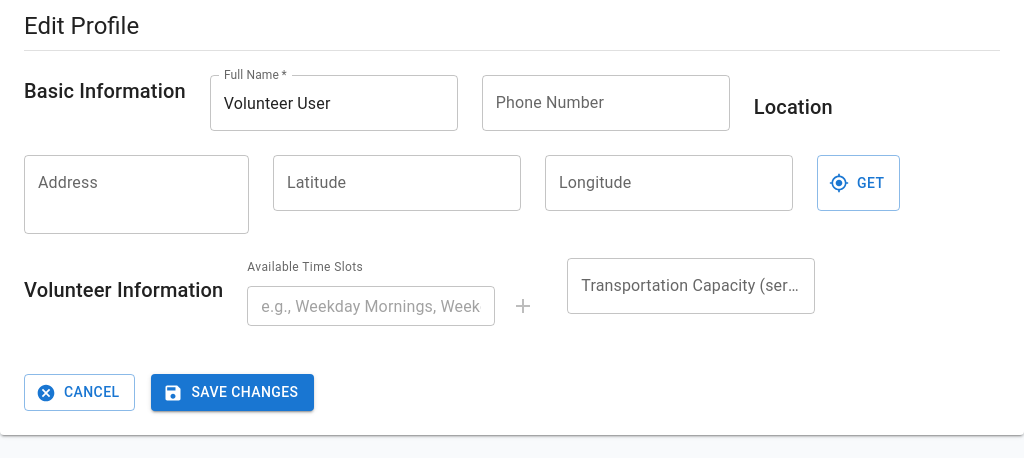
it: ProfileForm › should validate transportation capacity for volunteers
The width and height of the screenshot is (1024, 458).
Type "0" into the number field labelled "Transportation Capacity (servings)" at (691, 286), box [567,258,815,314]
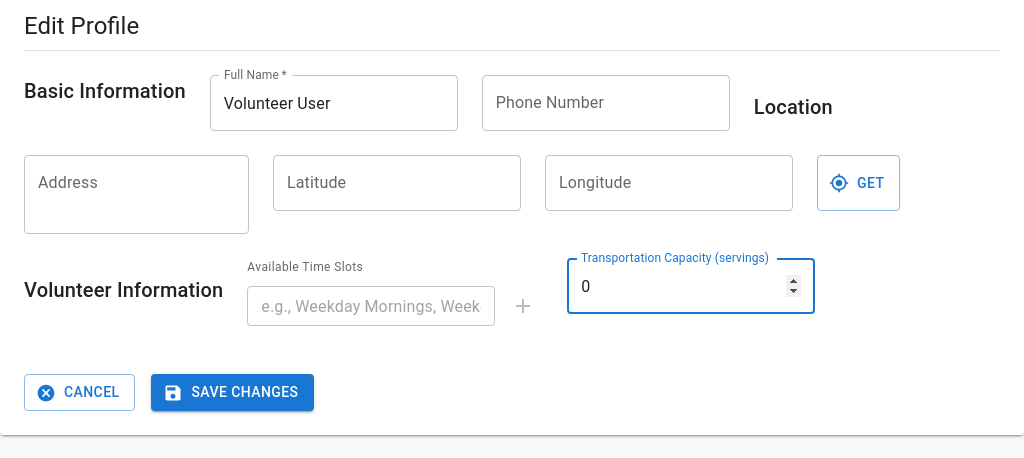
Click the button "Save Changes" at (233, 393), box [152,374,314,411]
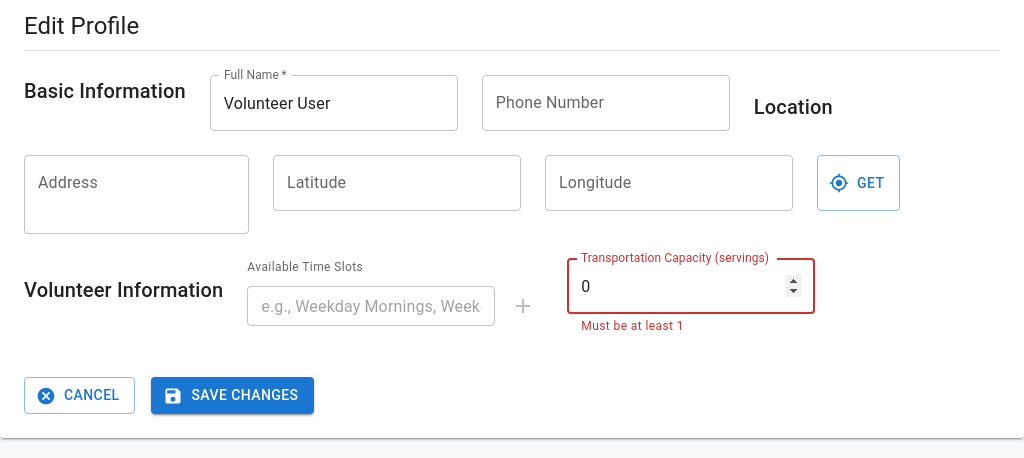
Check: the text "Must be at least 1" is shown, box [581,319,684,333]
